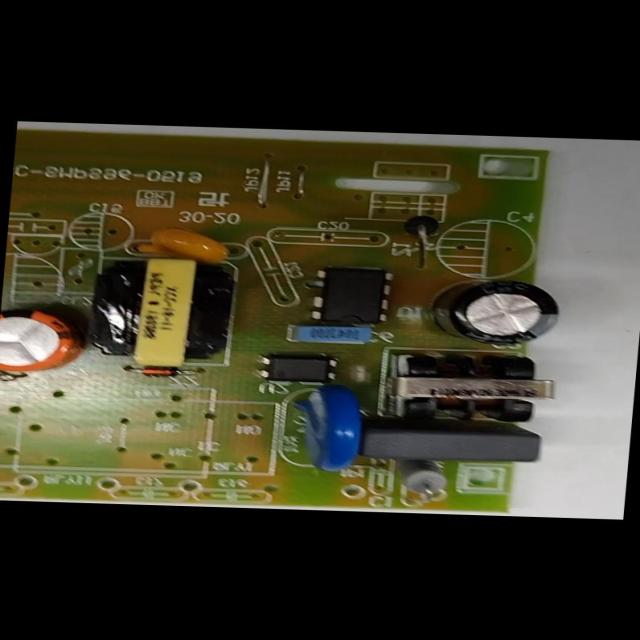Cap1: (0, 309, 80, 372)
Cap3: (423, 280, 563, 346)
MOSFET: (310, 266, 390, 324)
Mov: (290, 387, 366, 472)
Resistor: (392, 460, 448, 497)
Transformer: (83, 258, 228, 366), (380, 348, 560, 426)
